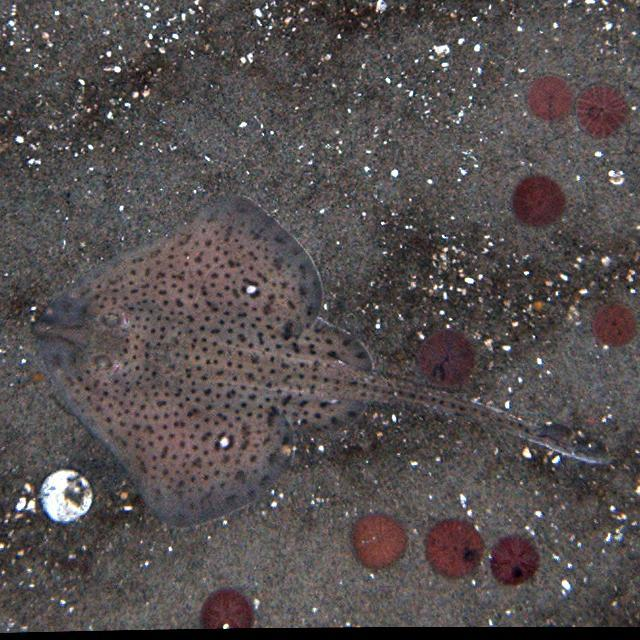skate: (38, 189, 608, 521)
